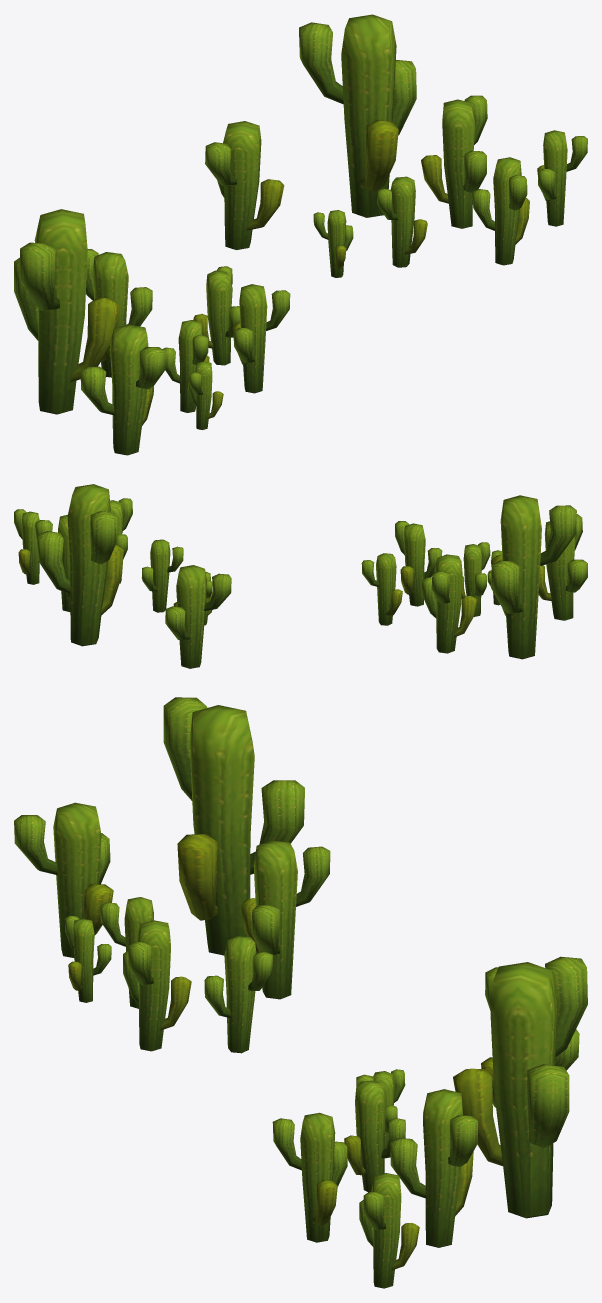
File: xianrenzhang04.fbx
3 renders of one model, top to bottom at view 1: azimuth 30°, elevation 25°; view 2: azimuth 150°, elevation 25°; view 3: azimuth 270°, elevation 25°, orthographic. The views are drawn at different scales.
Parts seen in each view (by area): view 1: xianrenzhang04; view 2: xianrenzhang04; view 3: xianrenzhang04.
Boxes of the visible parts, left/top/right/bottom form: xianrenzhang04: left=14, top=14, right=587, bottom=455; xianrenzhang04: left=14, top=484, right=587, bottom=668; xianrenzhang04: left=14, top=697, right=587, bottom=1288.
Bounding box in the file's own units: 3293 × 958 × 2088.
1 material, 1 textured.
